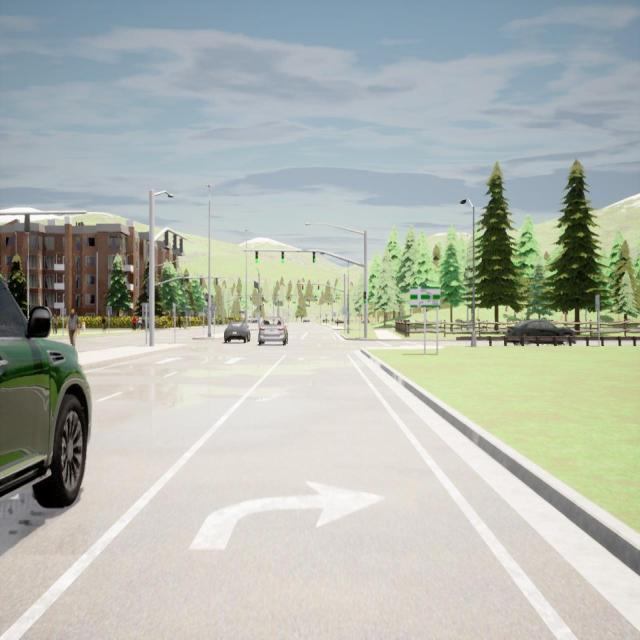Pedestrian: (66, 308, 80, 346), (52, 314, 58, 335), (132, 314, 136, 330), (138, 315, 142, 330), (102, 316, 106, 330), (142, 316, 145, 331)
Traffic_Signs: (410, 287, 440, 308), (142, 304, 150, 316), (595, 294, 600, 310), (106, 307, 112, 314)
Vehicle: (0, 276, 92, 509), (507, 320, 576, 346), (258, 316, 288, 346), (224, 321, 250, 343)
traffic_light: (172, 232, 176, 250), (179, 237, 183, 251), (255, 250, 259, 262), (165, 230, 168, 246), (312, 252, 316, 264), (281, 251, 284, 263), (147, 278, 149, 296), (364, 291, 366, 304), (181, 278, 183, 286), (200, 278, 202, 286), (216, 278, 218, 285), (302, 283, 304, 290), (318, 283, 320, 290), (259, 305, 261, 311), (254, 282, 256, 288), (256, 282, 257, 288), (257, 283, 258, 288)
